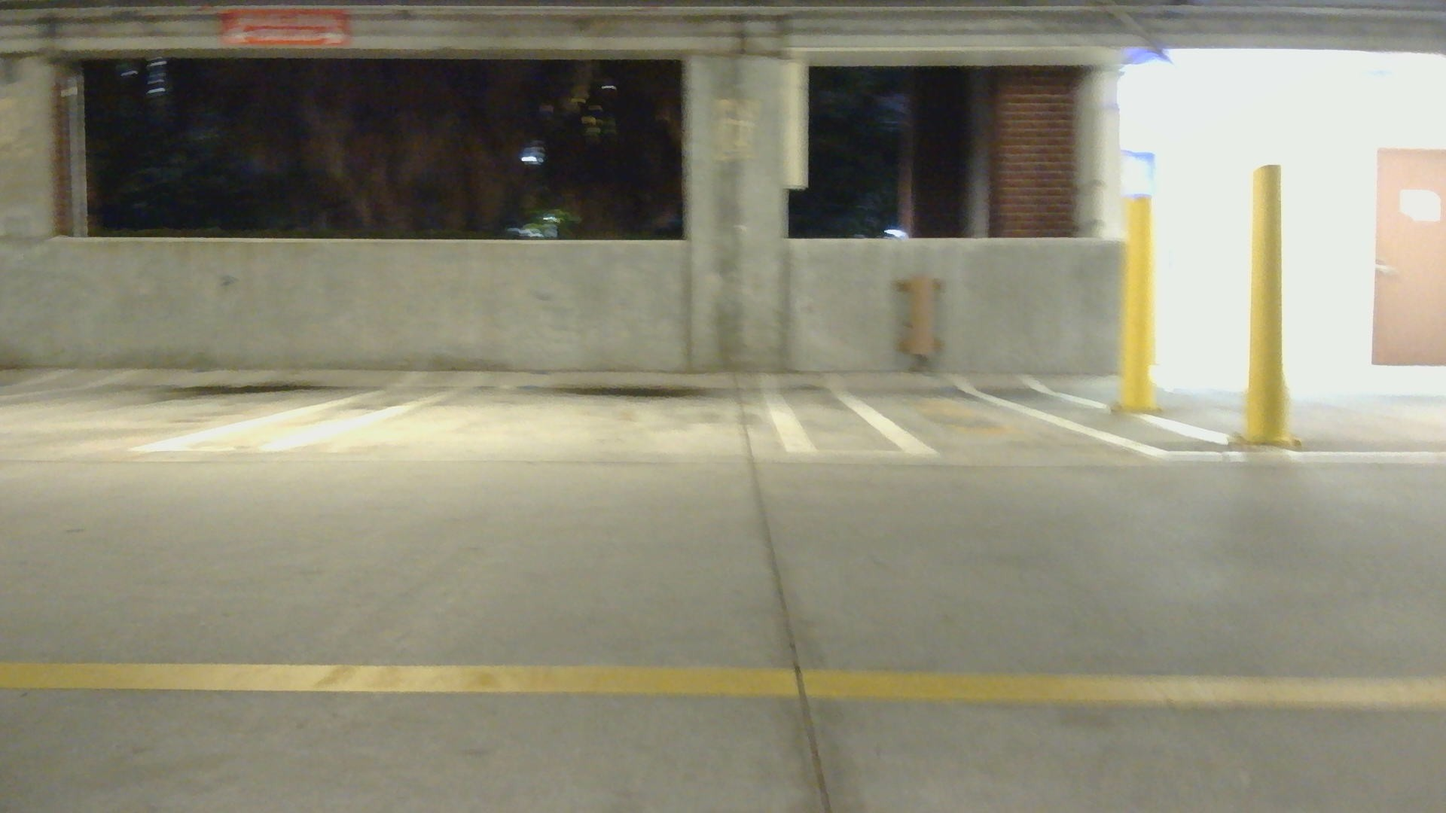empty_spot: (249, 281, 824, 454), (0, 354, 424, 469)
